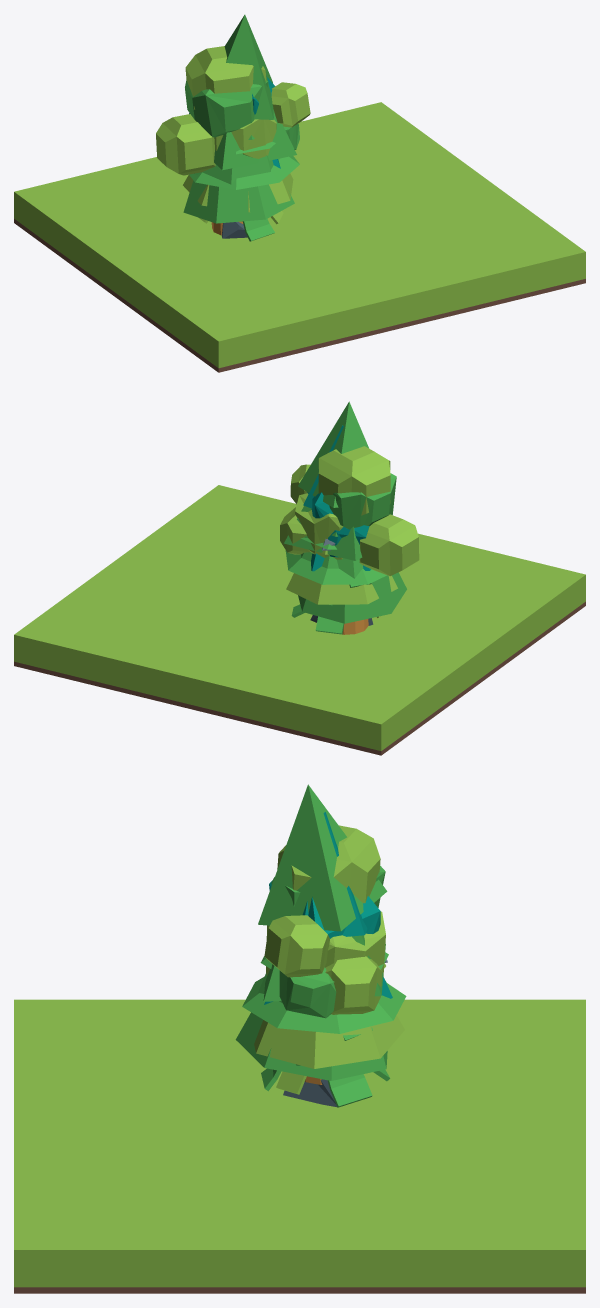
3 views of the same model, one above another, from view 1: azimuth 30°, elevation 25°; view 2: azimuth 150°, elevation 25°; view 3: azimuth 270°, elevation 25° (orthographic). The views are drawn at different scales.
Parts seen in each view (by area): view 1: group833803046, Tree_13, Tree_3, Tree_2, Tree_12, Tree_8, Tree_10, Tree_7, Tree_4; view 2: group833803046, Tree_13, Tree_3, Tree_2, Tree_7, Tree_12, Tree_8, Tree_10, Tree_11, Tree_4, Tree_9; view 3: group833803046, Tree_13, Tree_2, Tree_7, Tree_8, Tree_12, Tree_3, Tree_4, Tree_10, Tree_9, Tree_11, Stone_2.
Boxes of the visible parts, x1=… form: group833803046: x1=14, y1=102, x2=585, y2=372; Tree_13: x1=156, y1=46, x2=310, y2=175; Tree_3: x1=183, y1=135, x2=294, y2=235; Tree_2: x1=214, y1=14, x2=296, y2=170; Tree_12: x1=185, y1=80, x2=299, y2=149; Tree_8: x1=189, y1=141, x2=299, y2=189; Tree_10: x1=214, y1=119, x2=276, y2=158; Tree_7: x1=183, y1=173, x2=293, y2=212; Tree_4: x1=198, y1=211, x2=283, y2=241; group833803046: x1=14, y1=485, x2=585, y2=755; Tree_13: x1=280, y1=446, x2=419, y2=576; Tree_3: x1=298, y1=532, x2=406, y2=634; Tree_2: x1=284, y1=401, x2=368, y2=560; Tree_7: x1=286, y1=550, x2=397, y2=604; Tree_12: x1=329, y1=473, x2=396, y2=529; Tree_8: x1=285, y1=537, x2=386, y2=584; Tree_10: x1=295, y1=493, x2=343, y2=559; Tree_11: x1=307, y1=492, x2=369, y2=557; Tree_4: x1=291, y1=583, x2=379, y2=634; Tree_9: x1=303, y1=425, x2=370, y2=571; group833803046: x1=14, y1=999, x2=585, y2=1293; Tree_13: x1=264, y1=825, x2=382, y2=1014; Tree_2: x1=258, y1=784, x2=387, y2=1001; Tree_7: x1=254, y1=963, x2=404, y2=1084; Tree_8: x1=242, y1=952, x2=406, y2=1033; Tree_12: x1=271, y1=865, x2=385, y2=1018; Tree_3: x1=235, y1=973, x2=387, y2=1080; Tree_4: x1=261, y1=1027, x2=390, y2=1107; Tree_10: x1=266, y1=911, x2=385, y2=976; Tree_9: x1=264, y1=812, x2=392, y2=1004; Tree_11: x1=269, y1=880, x2=380, y2=938; Stone_2: x1=283, y1=1079, x2=336, y2=1106.
Size of the model in its own units: 0.86 by 0.5583 by 0.83.
